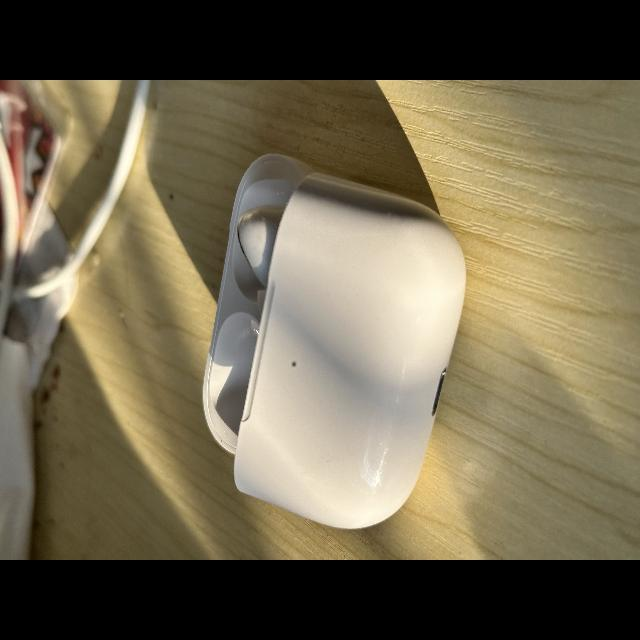AirPods Pro: (203, 153, 466, 529)
